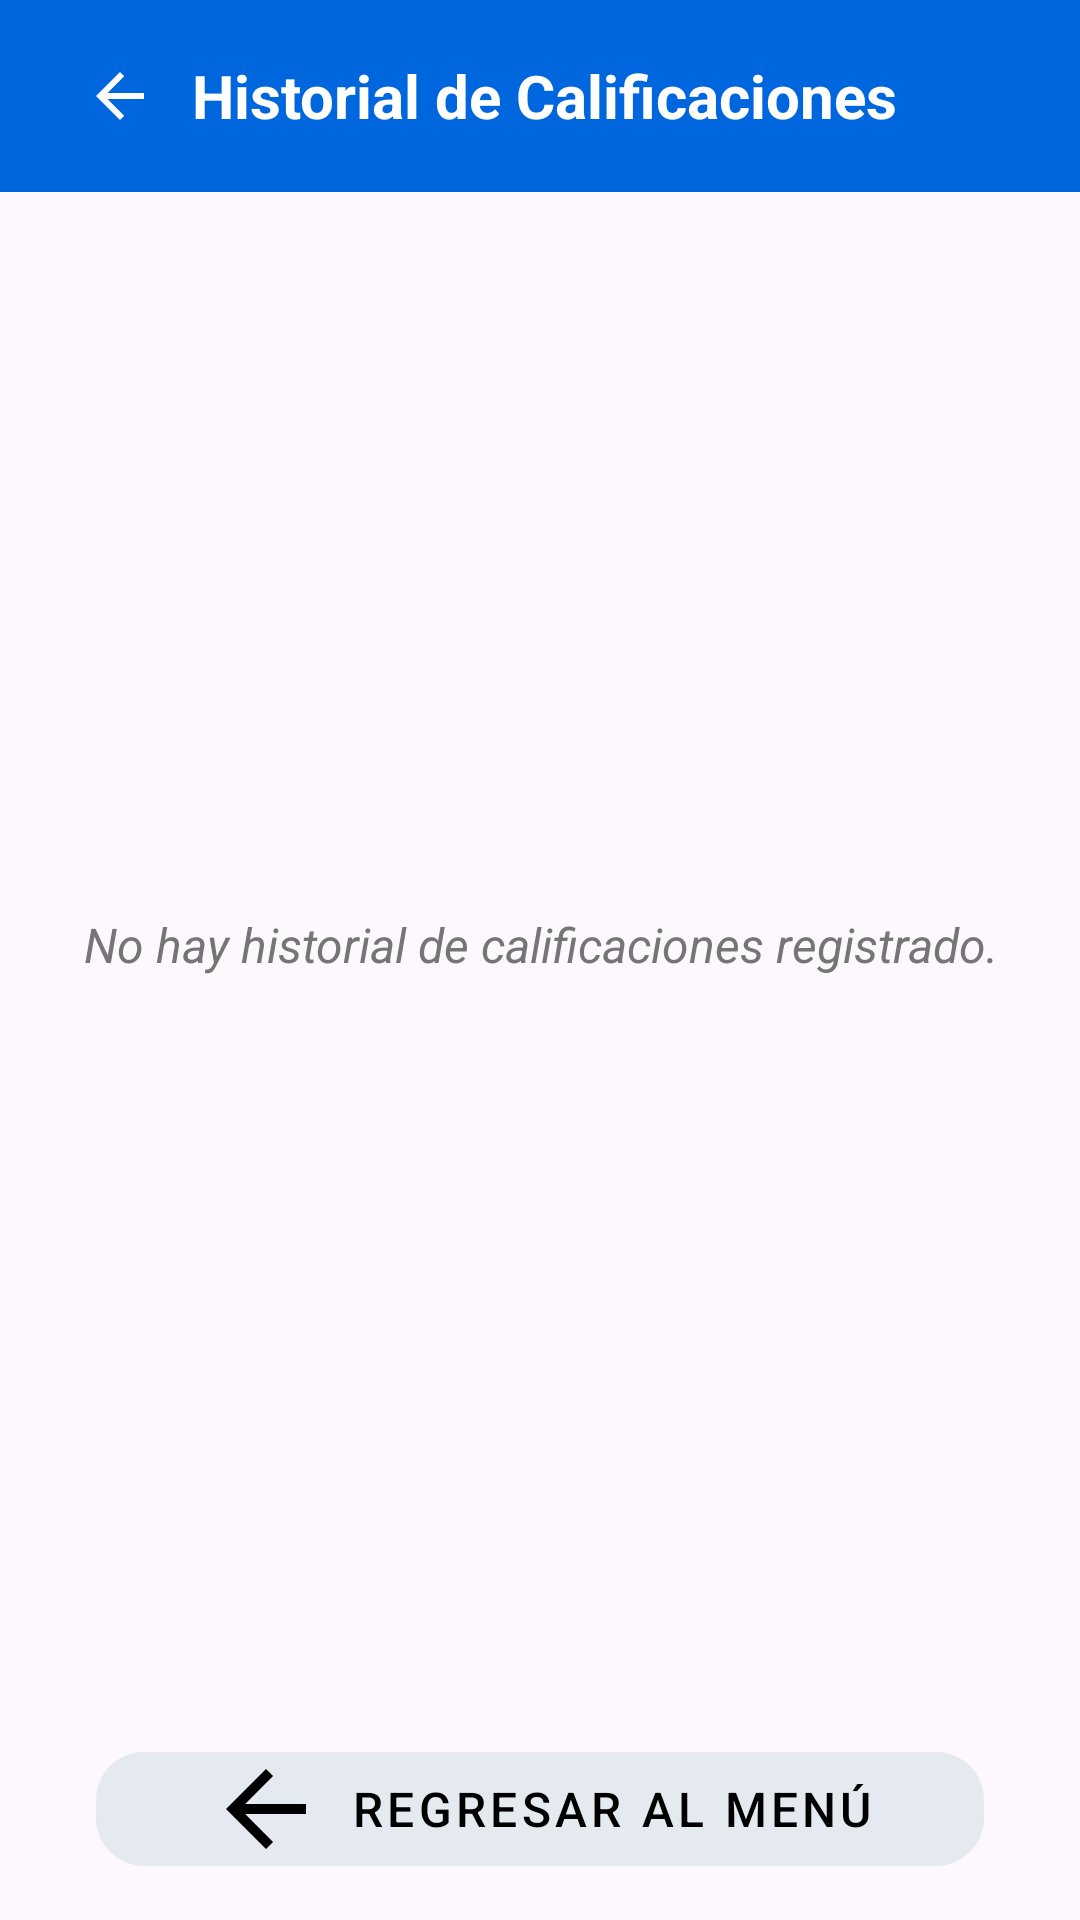

Locate icon controls on the screen. Image size 1080px×1920px, boxes as bbox=(x1, y1, x2, y2).
Regresar: bbox=(96, 72, 144, 120)
